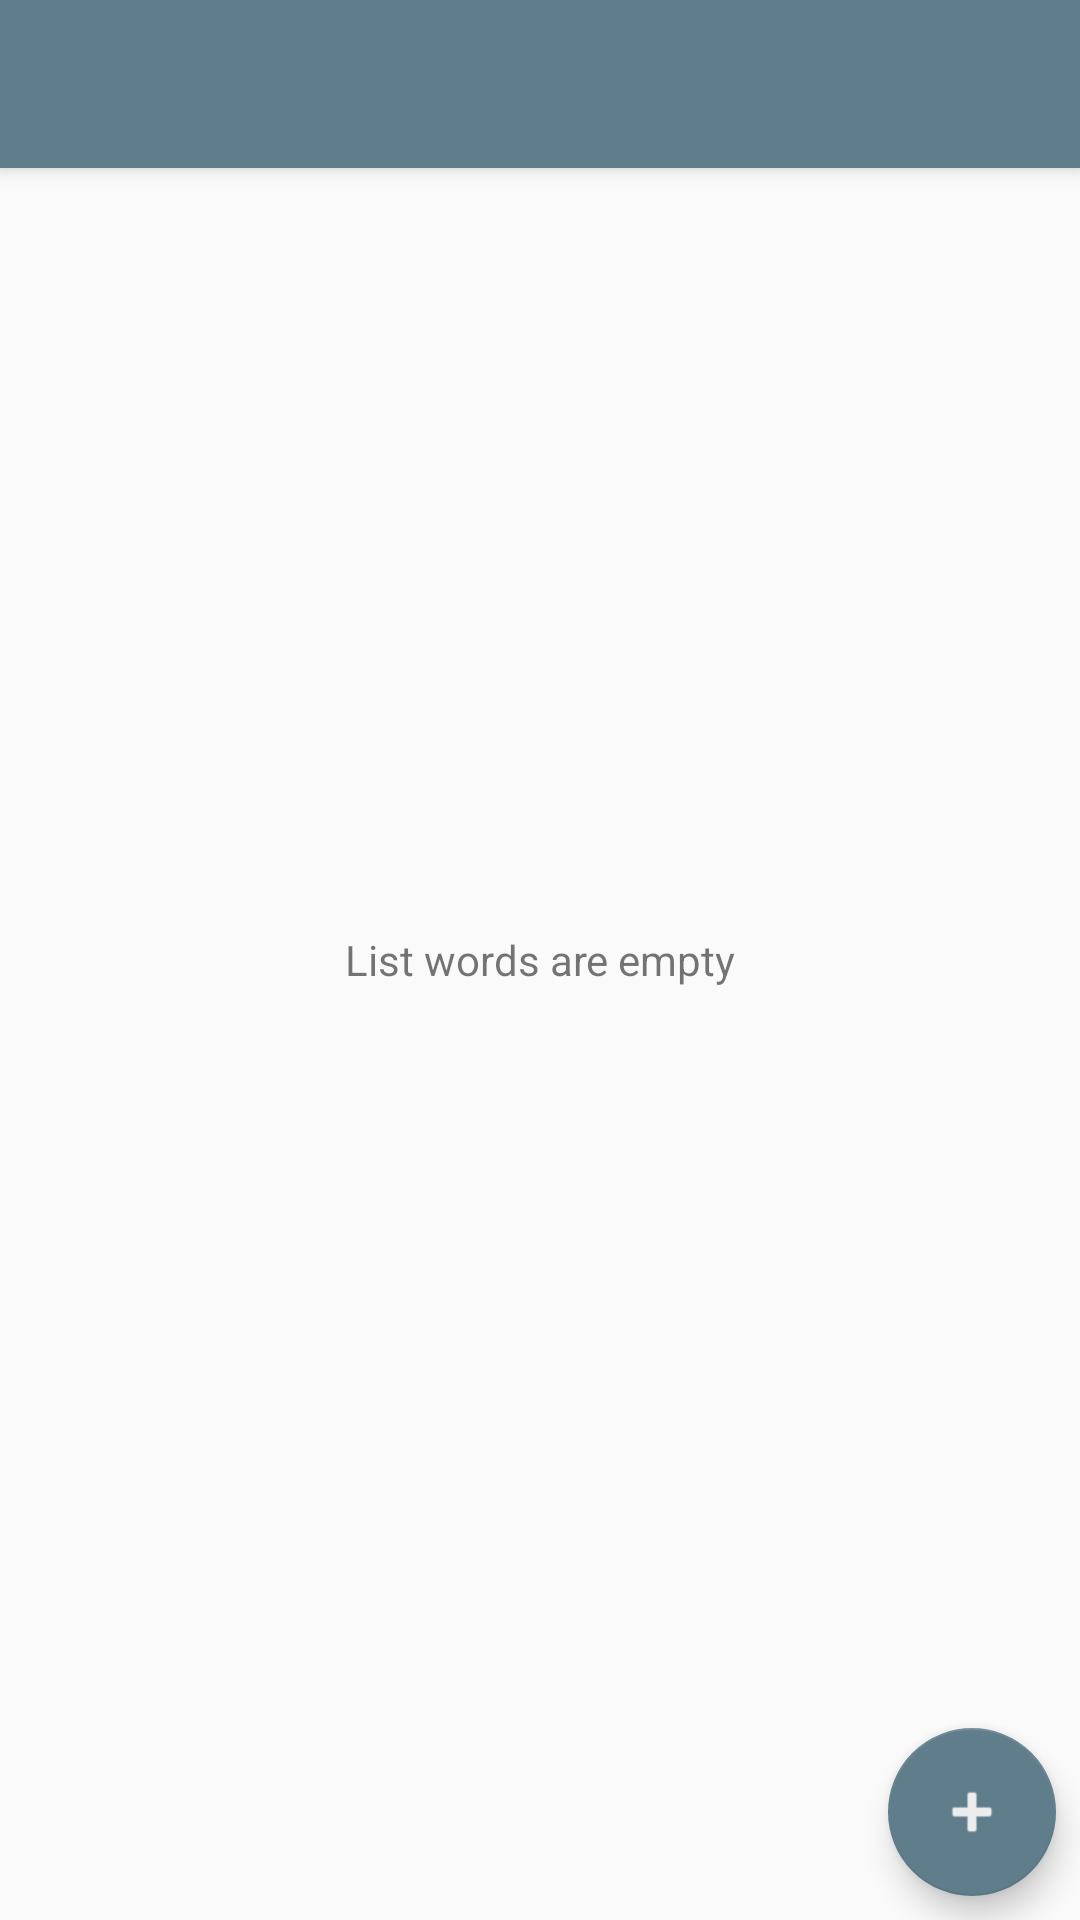

Icons on this 1080px×1920px Android screen, each with the point to tap as [x,y]:
add: [972,1812]
